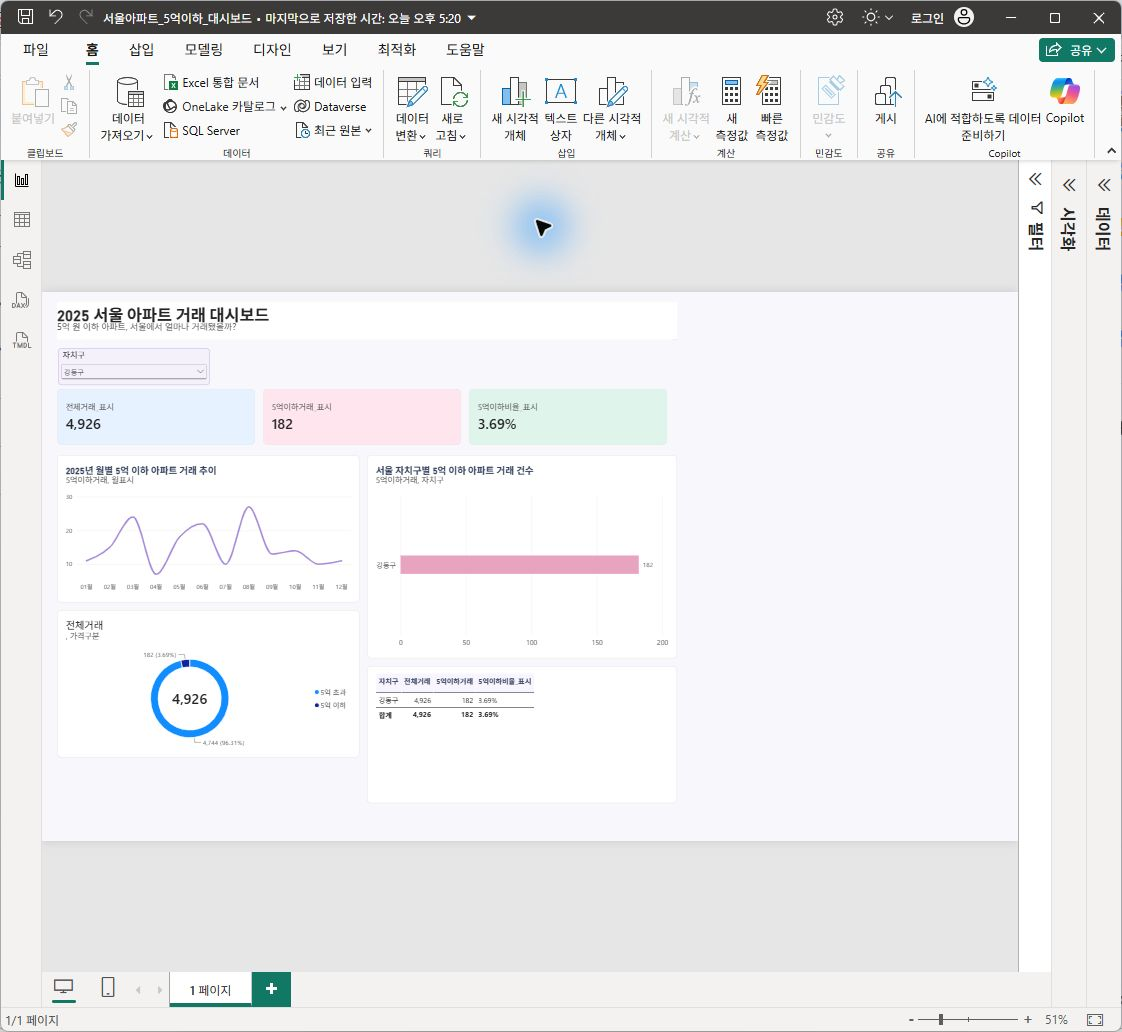

Layout of this report page (visuals, bound fields, positions):
{"tool":"powerbi","page":{"name":"1 페이지","canvas":[1920,1080],"ordinal":0},"visuals":[{"type":"cardVisual","fields":{"Data":["서울아파트_2025_분석용.전체거래_표시"]},"box":[30,190,390,110],"z":0},{"type":"cardVisual","fields":{"Data":["서울아파트_2025_분석용.5억이하거래_표시"]},"box":[435,190,390,110.4],"z":1000},{"type":"cardVisual","fields":{"Data":["서울아파트_2025_분석용.5억이하비율_표시"]},"box":[840,190,390,110],"z":2000},{"type":"lineChart","title":"2025년 월별 5억 이하 아파트 거래 추이","fields":{"Category":["서울아파트_2025_분석용.월표시"],"Y":["서울아파트_2025_분석용.5억이하거래"]},"box":[30,320,595,290],"z":3000},{"type":"clusteredBarChart","title":"서울 자치구별 5억 이하 아파트 거래 건수","fields":{"Category":["서울아파트_2025_분석용.자치구"],"Y":["서울아파트_2025_분석용.5억이하거래"]},"box":[640,320,610,400],"z":4000},{"type":"slicer","fields":{"Values":["서울아파트_2025_분석용.자치구"]},"box":[30.6,110.4,299.3,73.2],"z":5000},{"type":"textbox","title":"2025 서울 아파트 거래 대시보드","box":[30,20,1220,75],"z":6000},{"type":"donutChart","fields":{"Category":["서울아파트_2025_분석용.가격구분"],"Y":["서울아파트_2025_분석용.전체거래"]},"box":[30,625,595,290],"z":7000},{"type":"tableEx","fields":{"Values":["서울아파트_2025_분석용.자치구","서울아파트_2025_분석용.전체거래","서울아파트_2025_분석용.5억이하거래","서울아파트_2025_분석용.5억이하비율_표시"]},"box":[640,735,610,270],"z":8000},{"type":"textbox","box":[30.6,915.1,594.5,164.9],"z":8002}]}

Visuals, with their boxes on the page's 1920x1080 design canvas (x1, y1, x2, y2). These are canvas units, not pixel positions in the 1122x1032 screenshot, which may show the page scaled, cropped or inside an application window:
cardVisual - 서울아파트_2025_분석용.전체거래_표시: {"x1": 30, "y1": 190, "x2": 420, "y2": 300}
cardVisual - 서울아파트_2025_분석용.5억이하거래_표시: {"x1": 435, "y1": 190, "x2": 825, "y2": 300}
cardVisual - 서울아파트_2025_분석용.5억이하비율_표시: {"x1": 840, "y1": 190, "x2": 1230, "y2": 300}
"2025년 월별 5억 이하 아파트 거래 추이" lineChart: {"x1": 30, "y1": 320, "x2": 625, "y2": 610}
"서울 자치구별 5억 이하 아파트 거래 건수" clusteredBarChart: {"x1": 640, "y1": 320, "x2": 1250, "y2": 720}
slicer - 서울아파트_2025_분석용.자치구: {"x1": 31, "y1": 110, "x2": 330, "y2": 184}
"2025 서울 아파트 거래 대시보드" textbox: {"x1": 30, "y1": 20, "x2": 1250, "y2": 95}
donutChart - 서울아파트_2025_분석용.가격구분 x 서울아파트_2025_분석용.전체거래: {"x1": 30, "y1": 625, "x2": 625, "y2": 915}
tableEx - 서울아파트_2025_분석용.자치구 x 서울아파트_2025_분석용.전체거래: {"x1": 640, "y1": 735, "x2": 1250, "y2": 1005}
textbox: {"x1": 31, "y1": 915, "x2": 625, "y2": 1080}
